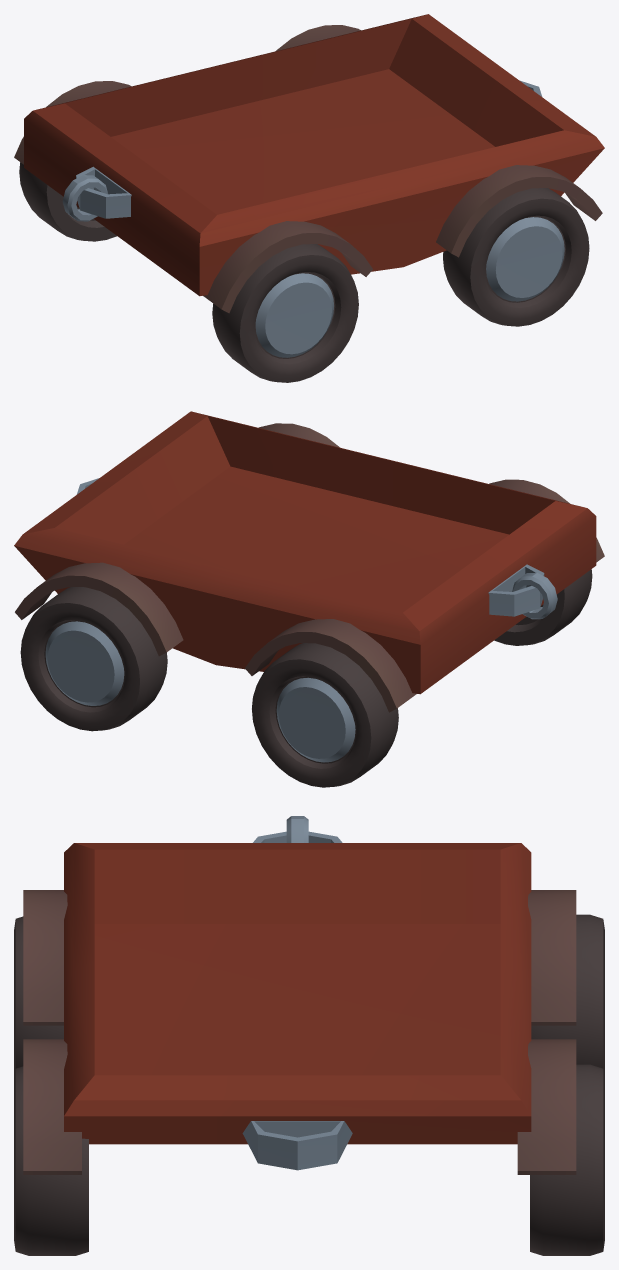
File: trailer.fbx
3 views of the same model, one above another, from view 1: azimuth 30°, elevation 25°; view 2: azimuth 150°, elevation 25°; view 3: azimuth 270°, elevation 25° (orthographic). The views are drawn at different scales.
Visible parts, largest first — view 1: trailer, trailer_wheel_right_forward, trailer_wheel_right_back, trailer_wheel_left_back; view 2: trailer, trailer_wheel_left_forward, trailer_wheel_left_back, trailer_wheel_right_back; view 3: trailer, trailer_wheel_left_forward, trailer_wheel_right_forward, trailer_wheel_left_back, trailer_wheel_right_back.
Part boxes in pixels (<box>): trailer: <box>14,14,604,313</box>; trailer_wheel_right_forward: <box>443,188,589,326</box>; trailer_wheel_right_back: <box>212,244,358,382</box>; trailer_wheel_left_back: <box>19,162,116,241</box>; trailer: <box>14,411,604,712</box>; trailer_wheel_left_forward: <box>20,587,167,731</box>; trailer_wheel_left_back: <box>252,643,398,787</box>; trailer_wheel_right_back: <box>494,569,592,645</box>; trailer: <box>23,816,576,1174</box>; trailer_wheel_left_forward: <box>530,1064,604,1255</box>; trailer_wheel_right_forward: <box>14,1066,88,1255</box>; trailer_wheel_left_back: <box>531,914,604,1078</box>; trailer_wheel_right_back: <box>14,916,63,1078</box>.
Size of the model in its own units: 312 by 101 by 253.
